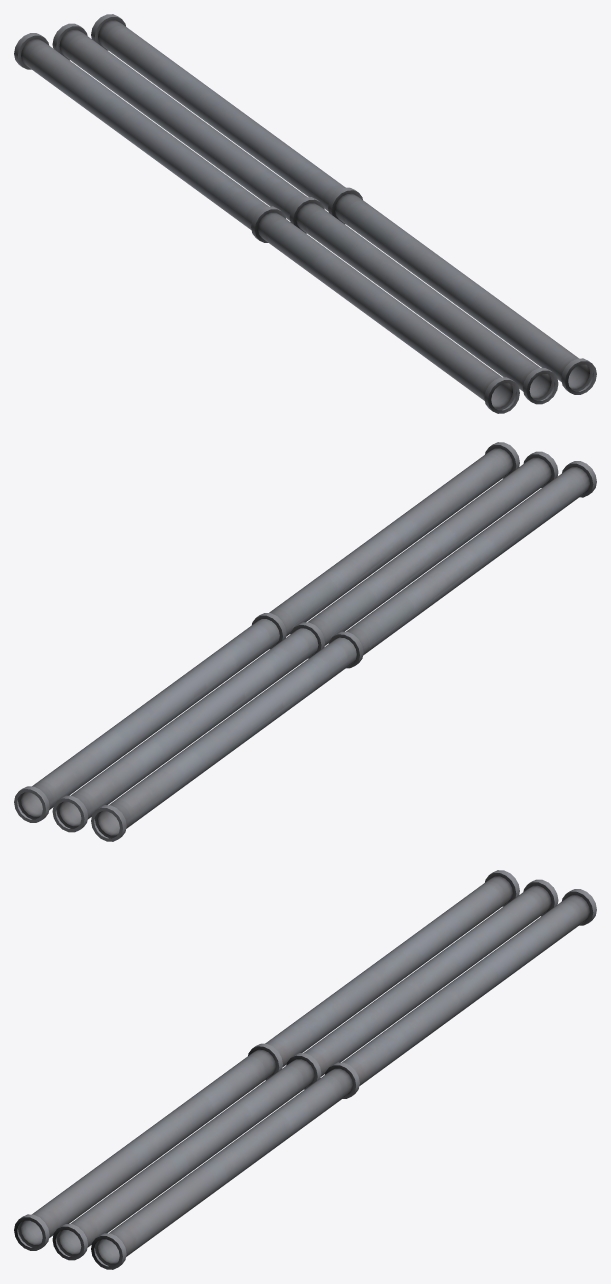
Rendered from props_hydro_3pipe_straight_256.glb.
3 views of the same model, one above another, from view 1: azimuth 30°, elevation 25°; view 2: azimuth 150°, elevation 25°; view 3: azimuth 330°, elevation 25° (orthographic).
Parts seen in each view (by area): view 1: models/props_hydro/3pipe_straight_256; view 2: models/props_hydro/3pipe_straight_256; view 3: models/props_hydro/3pipe_straight_256.
Part boxes in pixels (x1,y1,x2,y2): models/props_hydro/3pipe_straight_256: (14, 14, 596, 413); models/props_hydro/3pipe_straight_256: (14, 442, 596, 841); models/props_hydro/3pipe_straight_256: (14, 870, 596, 1269).
Bounding box in the file's own units: 34.02 × 10.02 × 256.
1 material, 1 textured.
